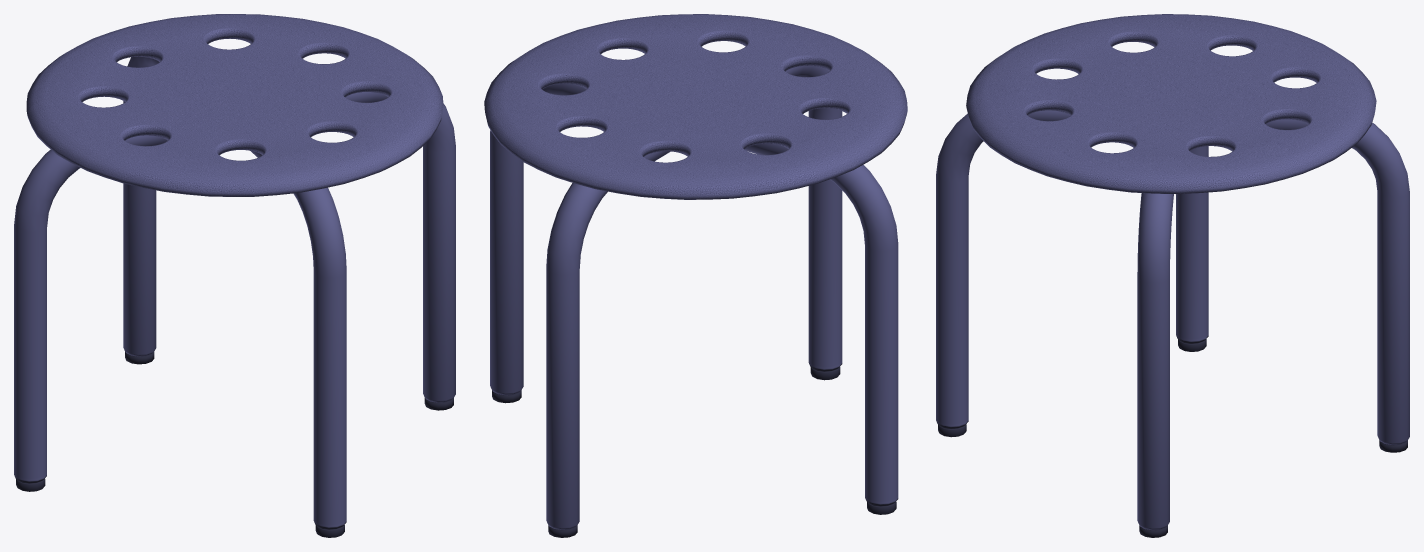
Rendered from Stool.glb.
3 renders of one model, left to right at view 1: azimuth 30°, elevation 25°; view 2: azimuth 150°, elevation 25°; view 3: azimuth 270°, elevation 25°, orthographic. The views are drawn at different scales.
Visible parts, largest first — view 1: Stool.001; view 2: Stool.001; view 3: Stool.001.
Part boxes in pixels (<box>): Stool.001: <box>14,14,455,537</box>; Stool.001: <box>484,14,907,537</box>; Stool.001: <box>936,14,1409,537</box>.
Size of the model in its own units: 6.9 by 5.56 by 6.9.
Materials: 1 (1 with a texture image).
